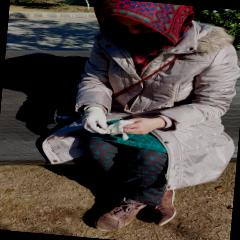gloved: (85, 106, 118, 132)
not-gloved: (121, 115, 164, 137)
